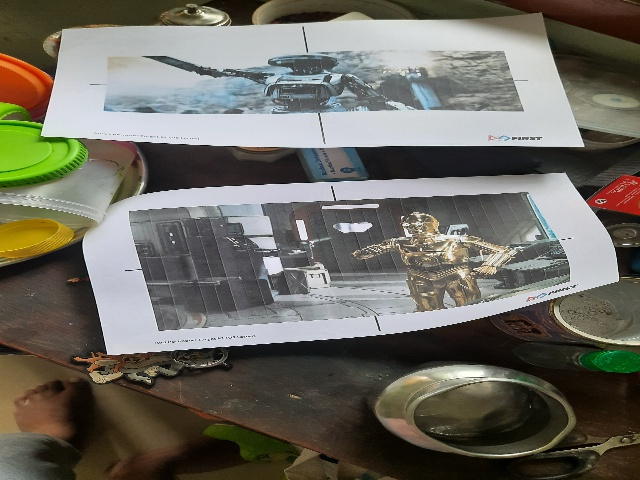bpt2: (77, 33, 540, 137)
rpt1: (119, 198, 588, 317)
